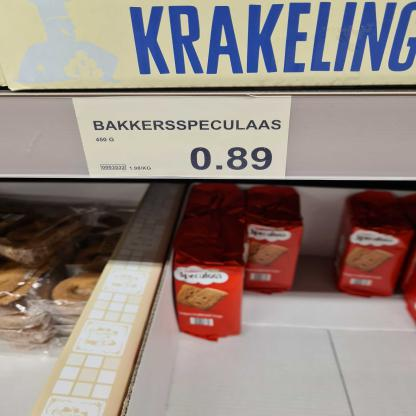prtg: (73, 98, 292, 180)
